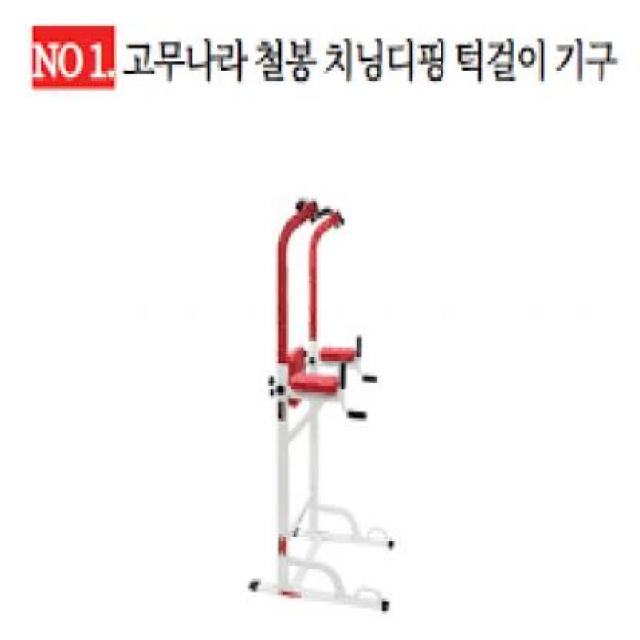chinning dipping: (248, 194, 397, 615)
